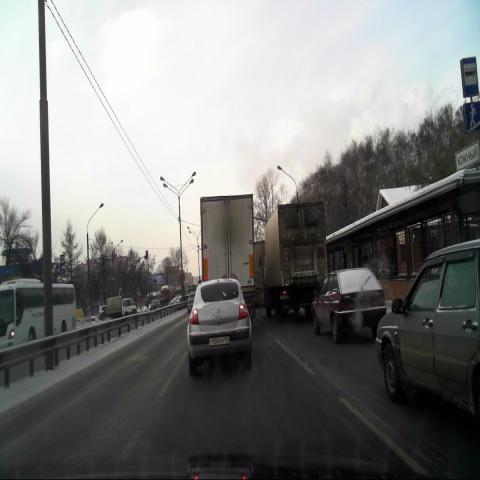6_6: (464, 100, 480, 132)
